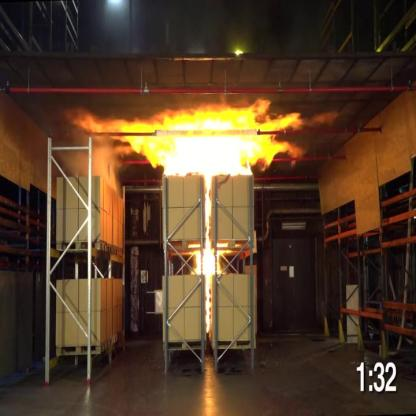fire: (64, 95, 308, 174), (187, 178, 228, 336)
